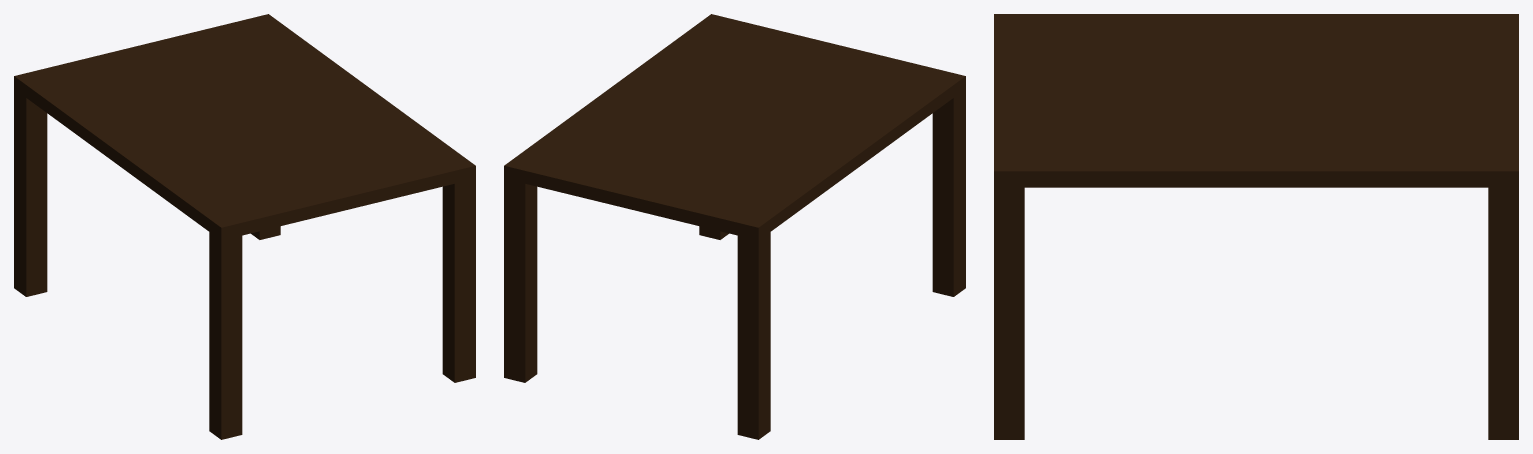
File: table next to couch.fbx
3 views of the same model, side by side, from view 1: azimuth 30°, elevation 25°; view 2: azimuth 150°, elevation 25°; view 3: azimuth 270°, elevation 25° (orthographic). The views are drawn at different scales.
Parts seen in each view (by area): view 1: Cube.010, Cube.014, Cube.011, Cube.013; view 2: Cube.010, Cube.013, Cube.012, Cube.014; view 3: Cube.010, Cube.011, Cube.012.
Boxes of the visible parts, x1=… form: Cube.010: x1=14, y1=14, x2=475, y2=240; Cube.014: x1=209, y1=232, x2=242, y2=439; Cube.011: x1=442, y1=178, x2=475, y2=382; Cube.013: x1=14, y1=89, x2=47, y2=296; Cube.010: x1=504, y1=14, x2=965, y2=240; Cube.013: x1=737, y1=232, x2=770, y2=439; Cube.012: x1=504, y1=178, x2=537, y2=382; Cube.014: x1=932, y1=89, x2=965, y2=296; Cube.010: x1=994, y1=14, x2=1518, y2=187; Cube.011: x1=994, y1=187, x2=1024, y2=439; Cube.012: x1=1488, y1=187, x2=1518, y2=439.
Size of the model in its own units: 154 by 123 by 217.
